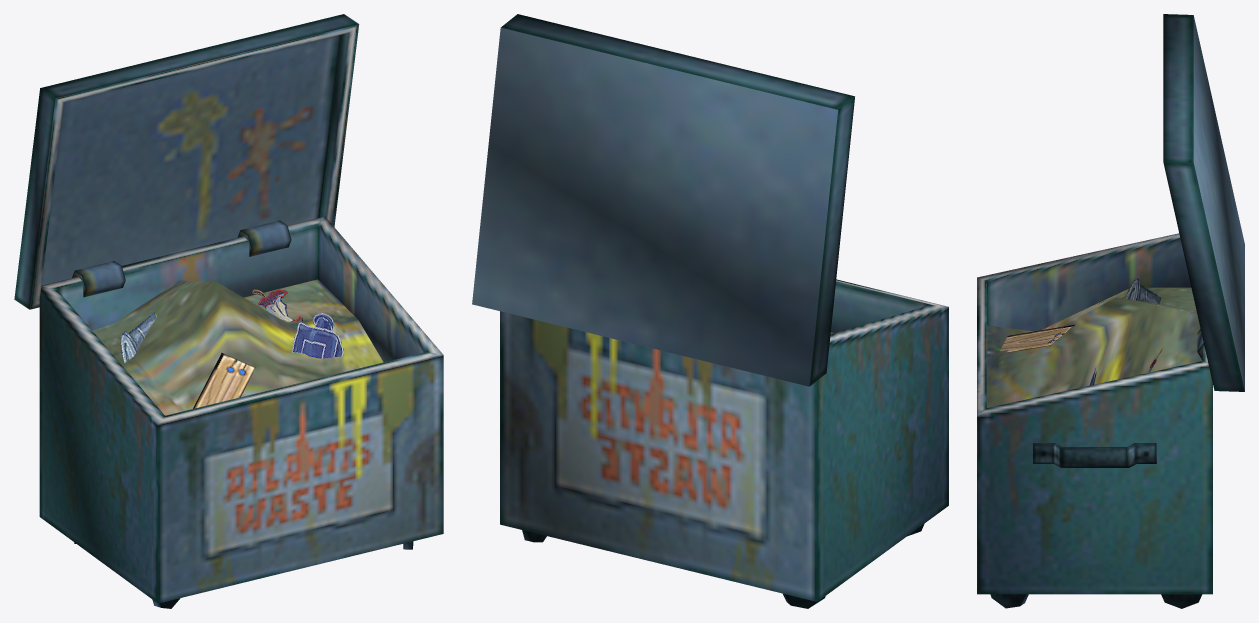
File: o_altantis_bin.obj
3 views of the same model, side by side, from view 1: azimuth 30°, elevation 25°; view 2: azimuth 150°, elevation 25°; view 3: azimuth 270°, elevation 25° (orthographic). The views are drawn at different scales.
Visible parts, largest first — view 1: o_atlantis_bin; view 2: o_atlantis_bin; view 3: o_atlantis_bin.
Part boxes in pixels (box(x1,y1,x2,y2)): o_atlantis_bin: box(14, 14, 443, 608); o_atlantis_bin: box(472, 14, 948, 608); o_atlantis_bin: box(977, 14, 1244, 608).
Bounding box in the file's own units: 152 × 219 × 116.
Materials: 2 (2 with a texture image).
